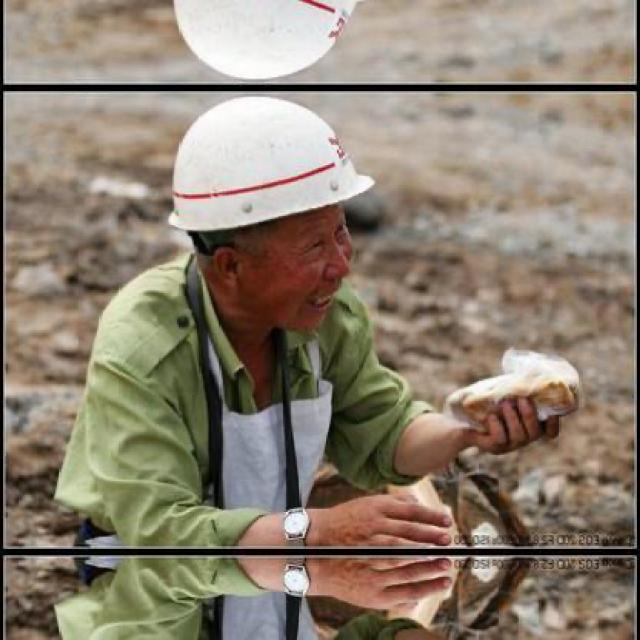helmet: (152, 94, 386, 339), (151, 0, 387, 83)
